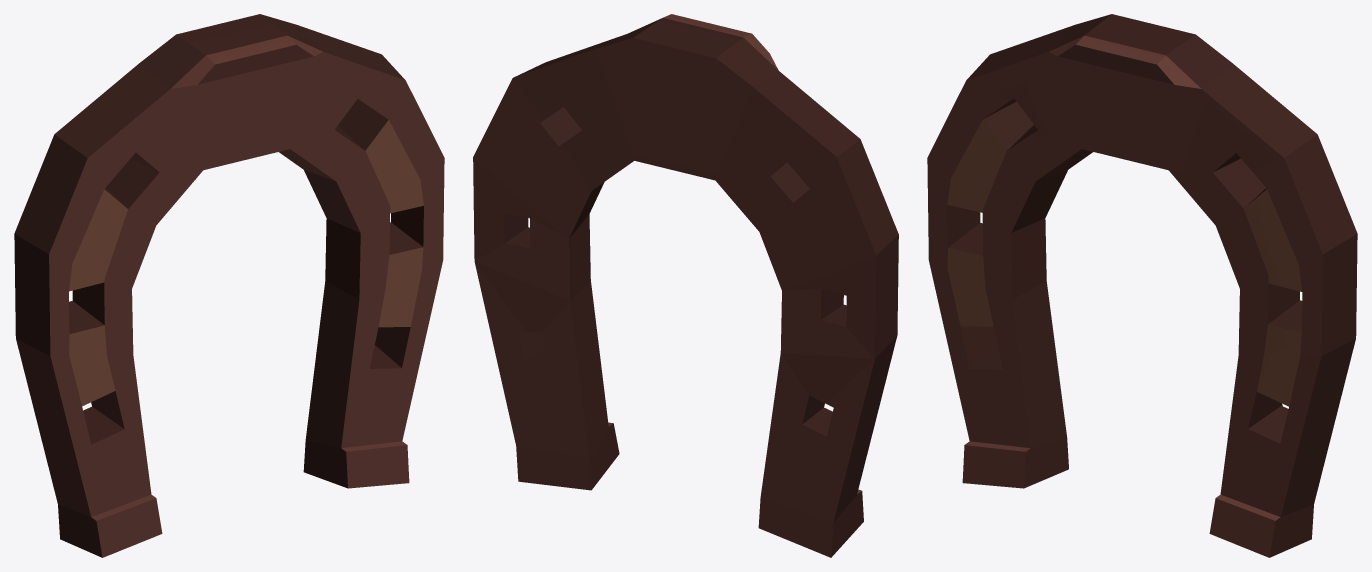
The model's file is icon_horseshoe.fbx.
The picture shows the model from 3 angles, left to right: view 1: azimuth 30°, elevation 25°; view 2: azimuth 150°, elevation 25°; view 3: azimuth 330°, elevation 25°; orthographic projection.
Parts seen in each view (by area): view 1: icon_horseshoe; view 2: icon_horseshoe; view 3: icon_horseshoe.
Boxes of the visible parts, x1,y1,x2,y2 form: icon_horseshoe: [14, 14, 444, 557]; icon_horseshoe: [473, 14, 898, 557]; icon_horseshoe: [927, 14, 1357, 557].
Bounding box in the file's own units: 31.2 × 34.88 × 5.02.
